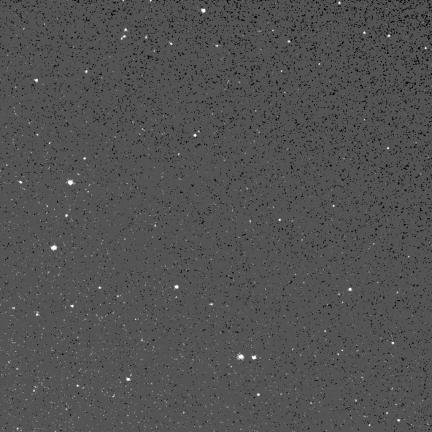blob: (68, 180, 75, 186), (51, 245, 57, 250), (201, 9, 205, 13), (65, 214, 69, 218), (257, 393, 261, 397), (85, 70, 88, 74), (252, 356, 256, 359), (34, 79, 38, 82), (279, 219, 282, 222), (363, 32, 366, 35), (175, 285, 178, 288), (127, 378, 130, 381), (71, 305, 74, 308), (99, 287, 102, 290), (349, 288, 352, 291)
